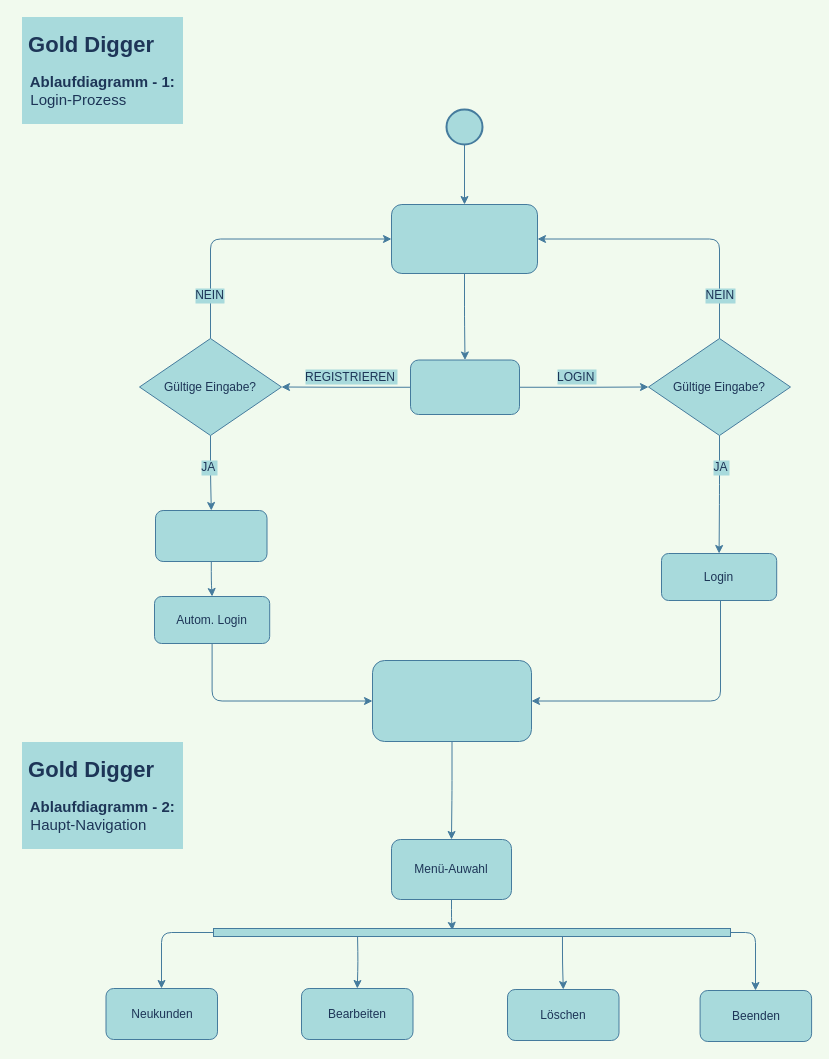
The diagram is 829 pixels wide and 1059 high, and some of its shapes have lost their labels. Each missing label, with the box of its shape:
Auswahl: Login o. Registieren: (410, 359, 520, 414)
Eingabe Login-Daten Username + Passwort: (390, 204, 538, 274)
Hauptfenster Anzeige: (372, 660, 532, 742)
Registrierung: (154, 510, 267, 562)
